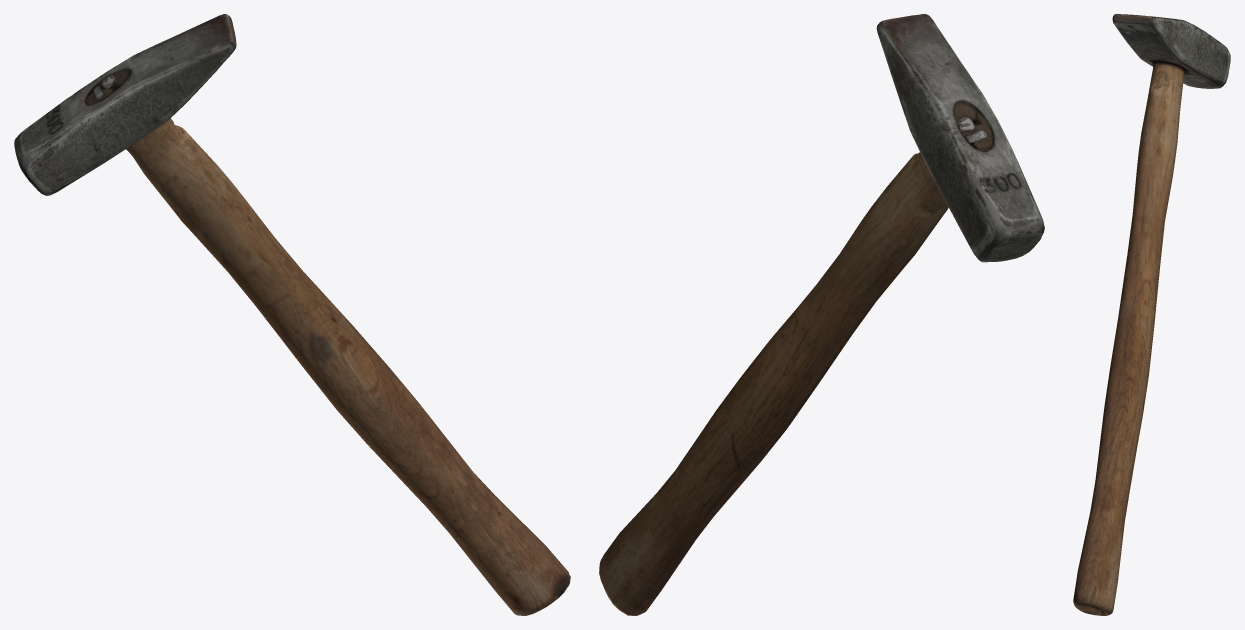
Rendered from hammer.gltf.
3 views of the same model, side by side, from view 1: azimuth 30°, elevation 25°; view 2: azimuth 150°, elevation 25°; view 3: azimuth 270°, elevation 25° (orthographic). The views are drawn at different scales.
Parts seen in each view (by area): view 1: cross_pein_hammer; view 2: cross_pein_hammer; view 3: cross_pein_hammer.
Boxes of the visible parts, x1,y1,x2,y2 form: cross_pein_hammer: (14,14,570,615); cross_pein_hammer: (599,14,1044,615); cross_pein_hammer: (1073,14,1230,615).
Size of the model in its own units: 0.2138 by 0.2731 by 0.078.
Materials: 1 (1 with a texture image).
